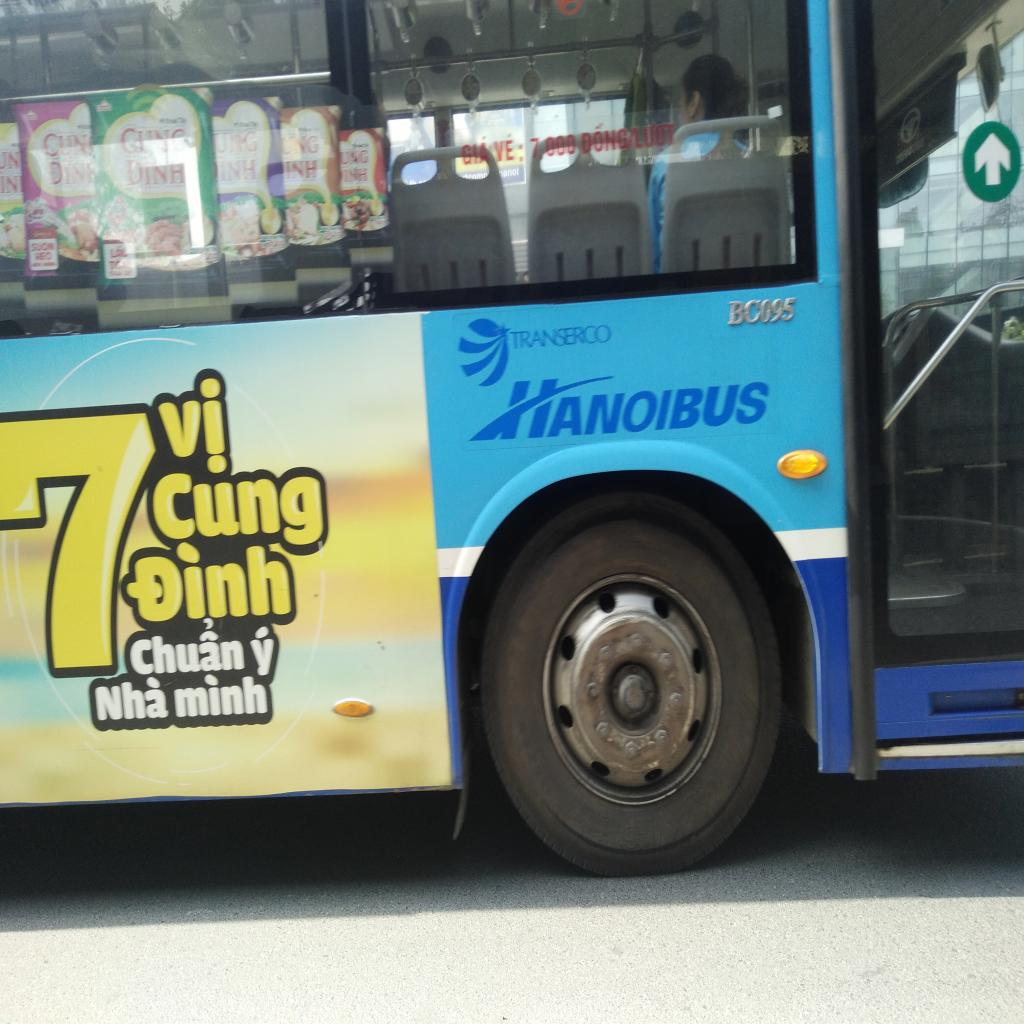text: (1, 400, 156, 677), (463, 364, 779, 450), (148, 468, 330, 562), (121, 540, 306, 625), (152, 359, 238, 474), (124, 617, 246, 677), (172, 671, 274, 721), (89, 677, 172, 725), (510, 318, 615, 352), (725, 292, 799, 330), (124, 156, 188, 189), (122, 124, 188, 154), (247, 624, 280, 676), (527, 129, 578, 162), (580, 124, 628, 156), (634, 120, 679, 152), (44, 131, 90, 158), (492, 130, 525, 164), (214, 130, 259, 154), (218, 158, 260, 182), (460, 134, 490, 166), (281, 135, 319, 156), (284, 158, 320, 180), (338, 148, 370, 166), (498, 166, 522, 180), (32, 241, 55, 252), (222, 199, 240, 213), (109, 246, 129, 258), (626, 124, 634, 152), (34, 251, 54, 261), (240, 198, 252, 209)
